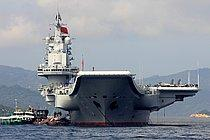MIL_Ship: (37, 11, 201, 125)
